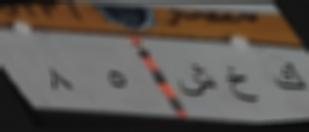5: (104, 62, 130, 96)
8: (45, 62, 72, 95)
kaaf: (272, 58, 306, 96)
khaa: (224, 63, 260, 107)
sheen: (176, 58, 217, 101)
